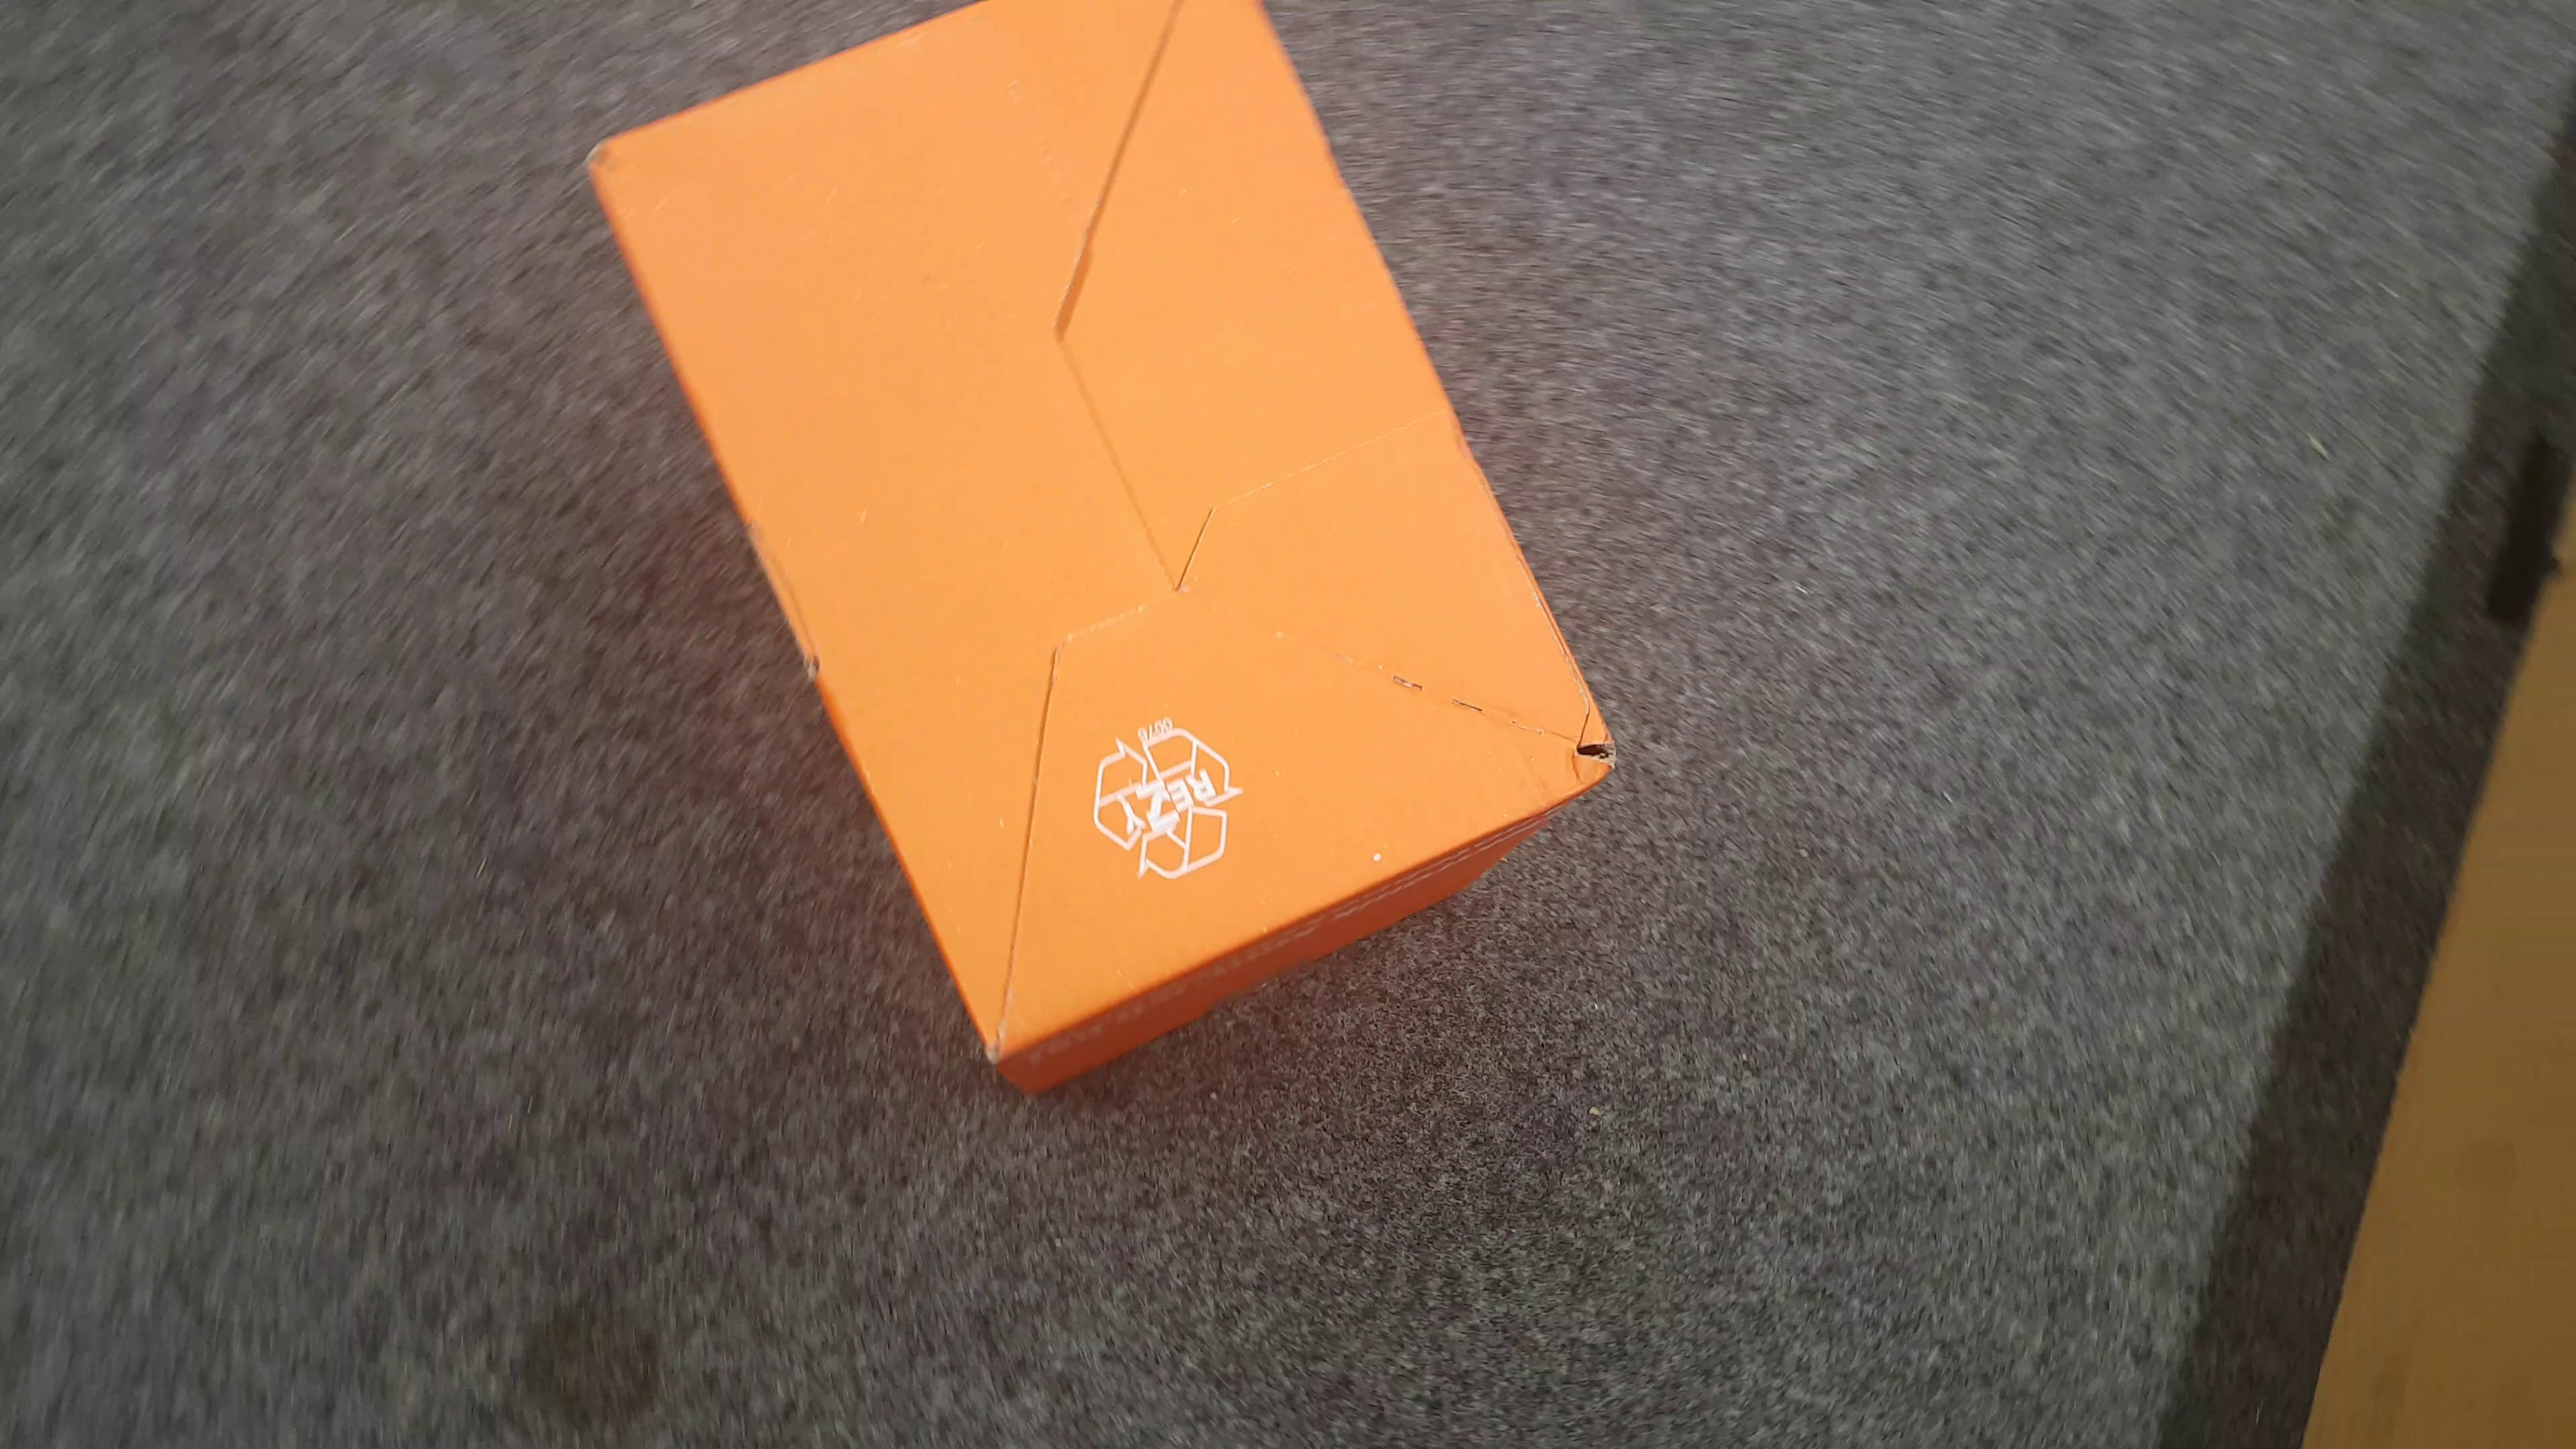push: (580, 11, 1622, 1092)
